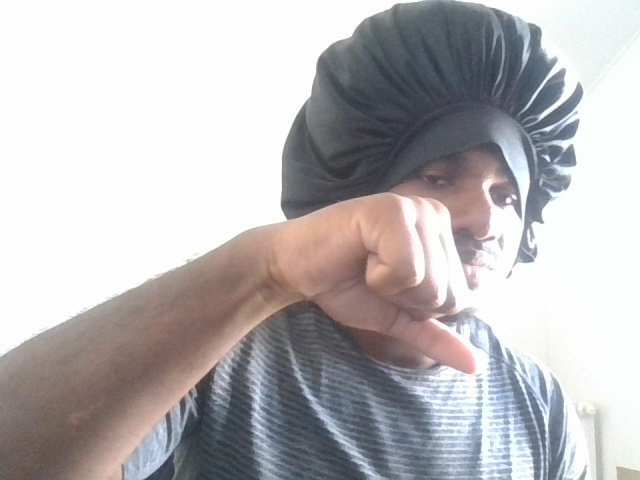Yes: (207, 187, 492, 382)
